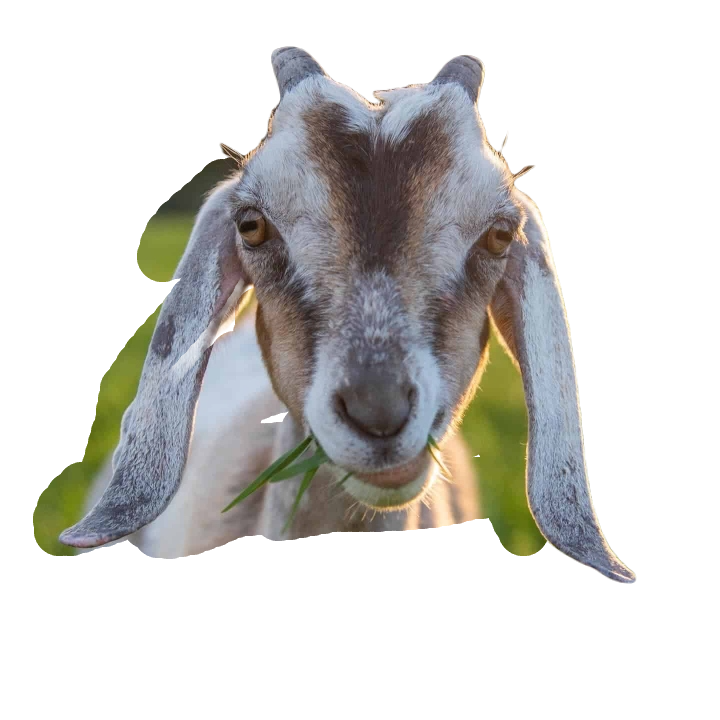Goat: (56, 46, 635, 589)
